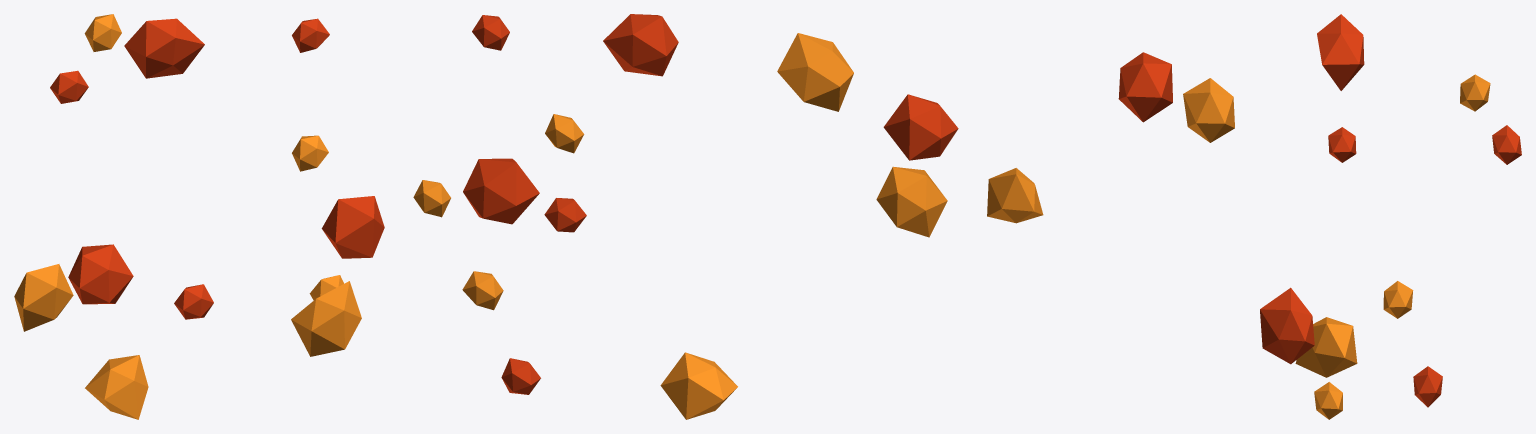
Rendered from frame_9.glb.
The picture shows the model from 3 angles, left to right: view 1: azimuth 30°, elevation 25°; view 2: azimuth 150°, elevation 25°; view 3: azimuth 270°, elevation 25°; orthographic projection. The views are drawn at different scales.
Visible parts, largest first — view 1: effect_explosion_small_frame_9; view 2: effect_explosion_small_frame_9; view 3: effect_explosion_small_frame_9.
Part boxes in pixels (x1=…): effect_explosion_small_frame_9: x1=14, y1=14, x2=384, y2=419; effect_explosion_small_frame_9: x1=413, y1=14, x2=958, y2=419; effect_explosion_small_frame_9: x1=987, y1=14, x2=1521, y2=419.
Size of the model in its own units: 9.87 by 8.79 by 11.48.
